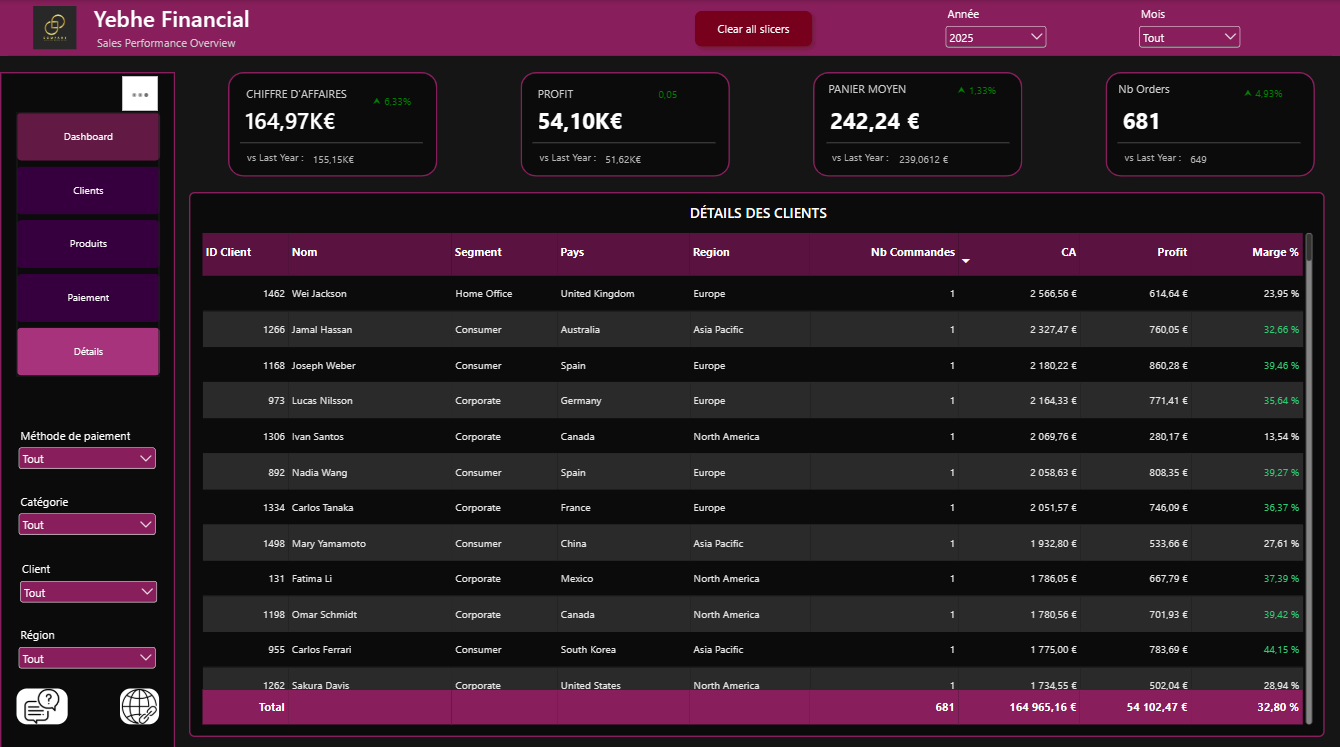

The dashboard page shown, as its layout file describes it:
{"tool":"powerbi","page":{"name":"Détails","canvas":[1920,1080],"ordinal":4},"visuals":[{"type":"shape","title":"top bar","box":[0,0,1919.7,80],"z":0},{"type":"shape","title":"sidebar","box":[0,103.8,250.9,975.5],"z":1000},{"type":"slicer","title":"slicer month_name","fields":{"Values":["dim_date.Month_name"]},"box":[1626.2,9.5,154.8,64.3],"z":2000},{"type":"shape","box":[327.3,103,300,150],"z":2000,"group":"g1"},{"type":"shape","box":[746,103,300,150],"z":2000,"group":"g2"},{"type":"shape","box":[1583.3,103,300,150],"z":2000,"group":"g4"},{"type":"shape","box":[1164.7,103.1,300,150],"z":2000,"group":"g3"},{"type":"textbox","title":"title dash","box":[124,4,251.5,47],"z":3000},{"type":"image","title":"logo","box":[40.9,7.6,75.8,62.1],"z":4000},{"type":"slicer","title":"year Slicer","fields":{"Values":["dim_date.Year"]},"box":[1350,9.5,154.5,62.1],"z":5000},{"type":"actionButton","box":[985.7,7.1,186.4,69.7],"z":6000},{"type":"slicer","title":"year Slicer","fields":{"Values":["dim_customer.Customer_Name"]},"box":[22.7,802.7,206.1,62.1],"z":7000},{"type":"slicer","title":"year Slicer","fields":{"Values":["dim_country.Region"]},"box":[22,898,206.1,62.1],"z":8000},{"type":"slicer","title":"year Slicer","fields":{"Values":["dim_product.Product_Category"]},"box":[22,707.3,206.1,62.1],"z":9000},{"type":"cardVisual","fields":{"Data":["_Mesures.Ca Last Year"]},"box":[433,208.2,131.8,37.9],"z":10000,"group":"g1"},{"type":"cardVisual","fields":{"Data":["_Mesures.Profit LY"]},"box":[851.7,208.2,131.8,37.9],"z":10000,"group":"g2"},{"type":"cardVisual","fields":{"Data":["_Mesures.Nb Orders LY"]},"box":[1689,208.2,131.8,37.9],"z":10000,"group":"g4"},{"type":"cardVisual","fields":{"Data":["_Mesures.AOV LY"]},"box":[1270.3,208.3,131.8,37.9],"z":10000,"group":"g3"},{"type":"slicer","title":"year Slicer","fields":{"Values":["dim_payment.Payment_Method"]},"box":[22,612,206.1,62.1],"z":10000},{"type":"cardVisual","fields":{"Data":["_Mesures.CA"]},"box":[336,141.6,191.9,58.4],"z":11000,"group":"g1"},{"type":"cardVisual","fields":{"Data":["_Mesures.Profit"]},"box":[754.7,141.6,191.9,58.4],"z":11000,"group":"g2"},{"type":"cardVisual","fields":{"Data":["_Mesures.AOV"]},"box":[1173.4,141.6,191.9,58.4],"z":11000,"group":"g3"},{"type":"cardVisual","fields":{"Data":["_Mesures.Nb Orders"]},"box":[1592,141.6,191.9,58.4],"z":11000,"group":"g4"},{"type":"pageNavigator","box":[22.7,160.6,206.1,378.8],"z":11000},{"type":"textbox","box":[130,50,214,30],"z":12000},{"type":"textbox","box":[343.6,200.7,122.7,43.9],"z":12000,"group":"g1"},{"type":"textbox","box":[762.3,200.7,122.7,43.9],"z":12000,"group":"g2"},{"type":"textbox","box":[1180.9,200.7,122.7,43.9],"z":12000,"group":"g3"},{"type":"textbox","box":[1599.6,200.7,122.7,43.9],"z":12000,"group":"g4"},{"type":"tableEx","title":"DÉTAILS DES CLIENTS","fields":{"Values":["dim_customer.Customer_ID","dim_customer.Customer_Name","dim_segment.Customer_Segment","dim_country.Country","dim_country.Region","_Mesures.Nb Orders","_Mesures.CA","_Mesures.Profit","_Mesures.Taux de Marge %"]},"box":[271.2,275.5,1627,780.7],"z":15000},{"type":"textbox","box":[1163.7,115.1,156.1,39.4],"z":17000,"group":"g3"},{"type":"textbox","box":[1572.2,115.1,131.8,31.8],"z":17000,"group":"g4"},{"type":"textbox","box":[337.7,121.8,175,39.6],"z":17000,"group":"g1"},{"type":"textbox","box":[737.4,122.5,117.4,32.6],"z":17000,"group":"g2"},{"type":"shape","box":[345.1,200.7,262.1,9.1],"z":18000,"group":"g1"},{"type":"shape","box":[763.8,200.7,262.1,9.1],"z":18000,"group":"g2"},{"type":"shape","box":[1182.5,200.7,262.1,9.1],"z":18000,"group":"g3"},{"type":"shape","box":[1601.1,200.7,262.1,9.1],"z":18000,"group":"g4"},{"type":"cardVisual","fields":{"Data":["_Mesures.AOV %"]},"box":[1370.2,103,87,50],"z":19000,"group":"g3"},{"type":"cardVisual","fields":{"Data":["_Mesures.Profit YOY %"]},"box":[944.6,106.9,80.4,52.2],"z":19000,"group":"g2"},{"type":"cardVisual","fields":{"Data":["_Mesures.Nb Orders %"]},"box":[1779.6,110.8,87.9,40.9],"z":19000,"group":"g4"},{"type":"cardVisual","fields":{"Data":["_Mesures.YOY %"]},"box":[518.9,122.5,87.9,40.9],"z":19000,"group":"g1"},{"type":"group","id":"g1","title":"Group 1","box":[327.3,103,300,150],"z":19001},{"type":"group","id":"g2","title":"Group 1","box":[737.4,103,308.6,150],"z":19002},{"type":"group","id":"g3","title":"Group 1","box":[1163.7,103,301,150.1],"z":19003},{"type":"group","id":"g4","title":"Group 1","box":[1572.2,103,311.1,150],"z":19004},{"type":"image","box":[23.6,986.2,73.1,51.6],"z":19005},{"type":"image","box":[171.9,986.2,55.9,51.6],"z":19006}]}

Visuals, with their boxes in screenshot pixels (x1, y1, x2, y2), scaled from the page's 1920x1080 canvas onto the 1340x747 screenshot:
"top bar" shape: rect(0, 0, 1339, 55)
"sidebar" shape: rect(0, 72, 175, 746)
"slicer month_name" slicer: rect(1135, 7, 1243, 51)
shape: rect(228, 71, 438, 175)
shape: rect(521, 71, 730, 175)
shape: rect(1105, 71, 1314, 175)
shape: rect(813, 71, 1022, 175)
"title dash" textbox: rect(87, 3, 262, 35)
"logo" image: rect(29, 5, 81, 48)
"year Slicer" slicer: rect(942, 7, 1050, 50)
actionButton: rect(688, 5, 818, 53)
"year Slicer" slicer: rect(16, 555, 160, 598)
"year Slicer" slicer: rect(15, 621, 159, 664)
"year Slicer" slicer: rect(15, 489, 159, 532)
cardVisual - _Mesures.Ca Last Year: rect(302, 144, 394, 170)
cardVisual - _Mesures.Profit LY: rect(594, 144, 686, 170)
cardVisual - _Mesures.Nb Orders LY: rect(1179, 144, 1271, 170)
cardVisual - _Mesures.AOV LY: rect(887, 144, 979, 170)
"year Slicer" slicer: rect(15, 423, 159, 466)
cardVisual - _Mesures.CA: rect(234, 98, 368, 138)
cardVisual - _Mesures.Profit: rect(527, 98, 661, 138)
cardVisual - _Mesures.AOV: rect(819, 98, 953, 138)
cardVisual - _Mesures.Nb Orders: rect(1111, 98, 1245, 138)
pageNavigator: rect(16, 111, 160, 373)
textbox: rect(91, 35, 240, 55)
textbox: rect(240, 139, 325, 169)
textbox: rect(532, 139, 618, 169)
textbox: rect(824, 139, 910, 169)
textbox: rect(1116, 139, 1202, 169)
"DÉTAILS DES CLIENTS" tableEx: rect(189, 191, 1325, 731)
textbox: rect(812, 80, 921, 107)
textbox: rect(1097, 80, 1189, 102)
textbox: rect(236, 84, 358, 112)
textbox: rect(515, 85, 597, 107)
shape: rect(241, 139, 424, 145)
shape: rect(533, 139, 716, 145)
shape: rect(825, 139, 1008, 145)
shape: rect(1117, 139, 1300, 145)
cardVisual - _Mesures.AOV %: rect(956, 71, 1017, 106)
cardVisual - _Mesures.Profit YOY %: rect(659, 74, 715, 110)
cardVisual - _Mesures.Nb Orders %: rect(1242, 77, 1303, 105)
cardVisual - _Mesures.YOY %: rect(362, 85, 423, 113)
"Group 1" group: rect(228, 71, 438, 175)
"Group 1" group: rect(515, 71, 730, 175)
"Group 1" group: rect(812, 71, 1022, 175)
"Group 1" group: rect(1097, 71, 1314, 175)
image: rect(16, 682, 67, 718)
image: rect(120, 682, 159, 718)
